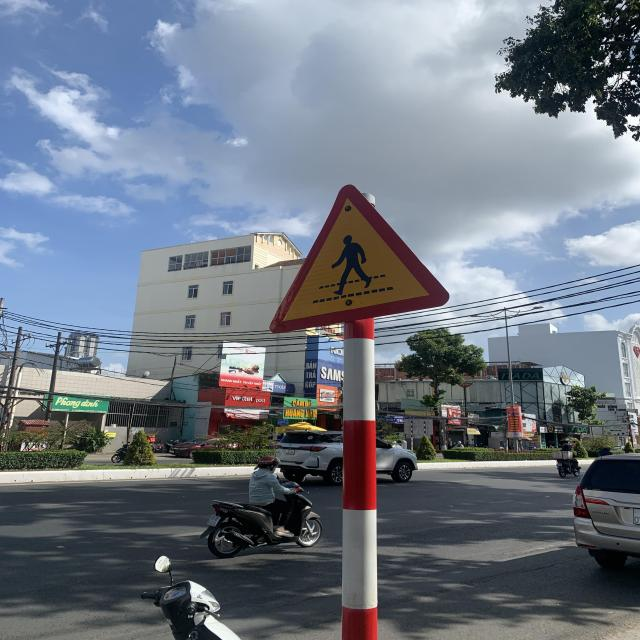Duong_Nguoi_Di_Bo_Sang_Ngang: (268, 183, 450, 334)
